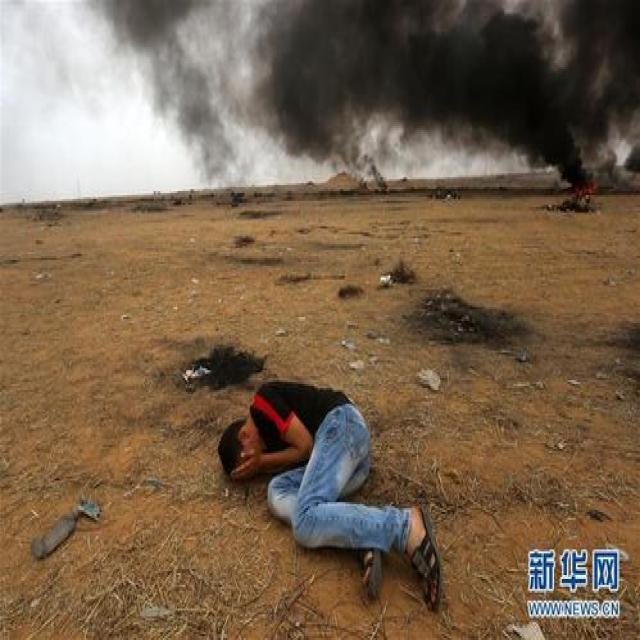fall: (215, 380, 453, 593)
